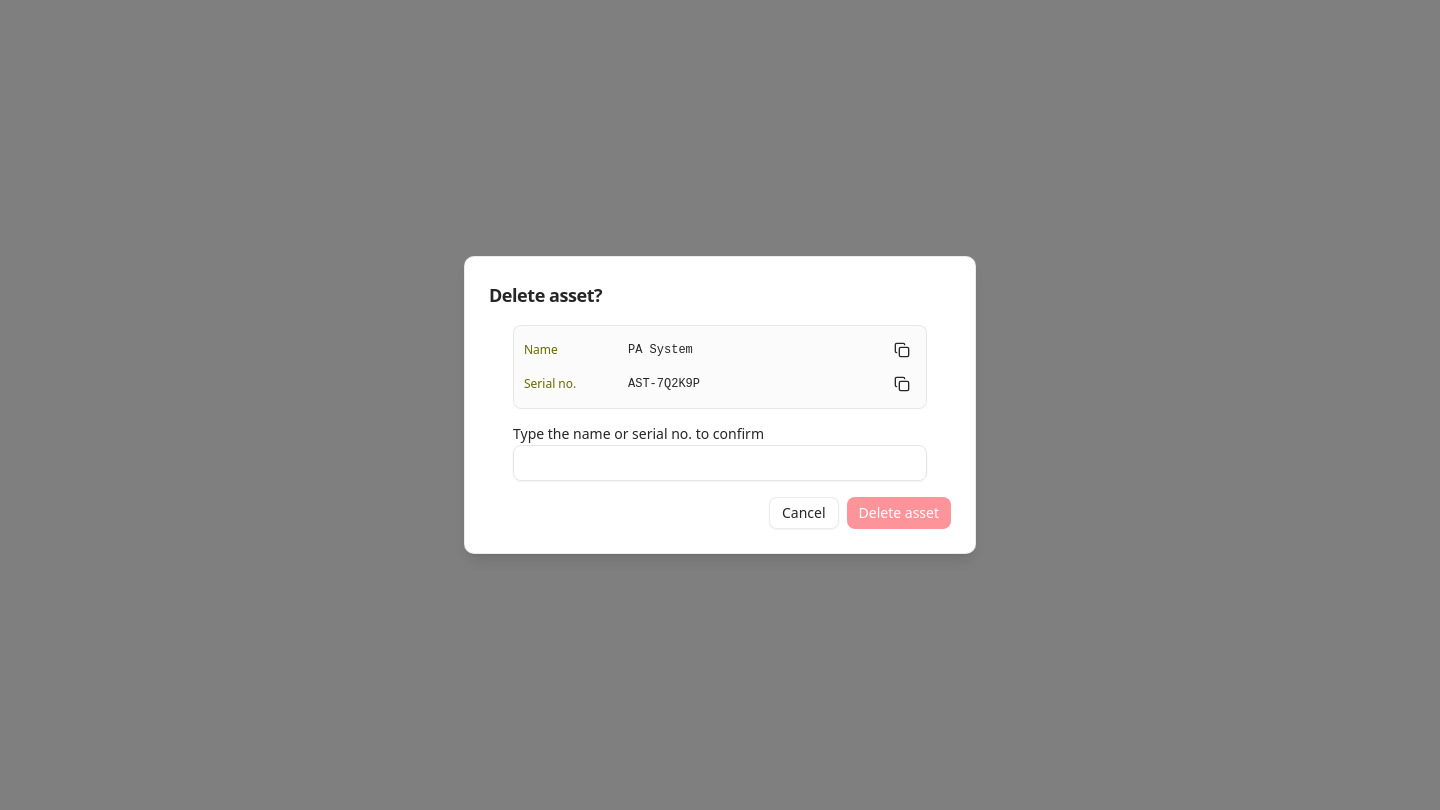
Test: TypedConfirmDialog › also accepts the ID, and ignores surrounding spaces
The width and height of the screenshot is (1440, 810).
Type "  AST-7Q2K9P " into the field labelled "Type the name or serial no. to confirm" at (720, 463), box [513,445,927,481]
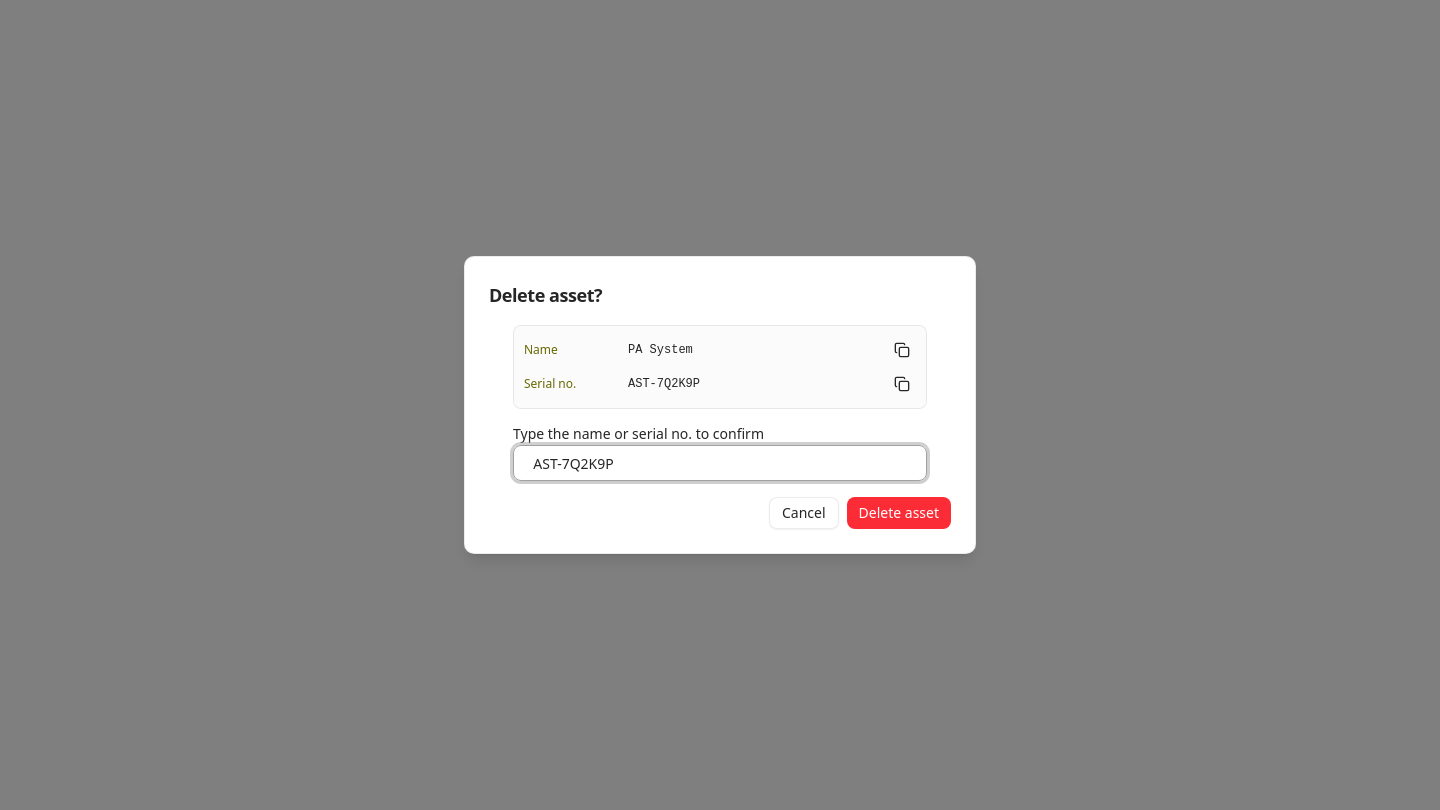
Now the button "Delete asset" is enabled, box [847,497,951,529]
